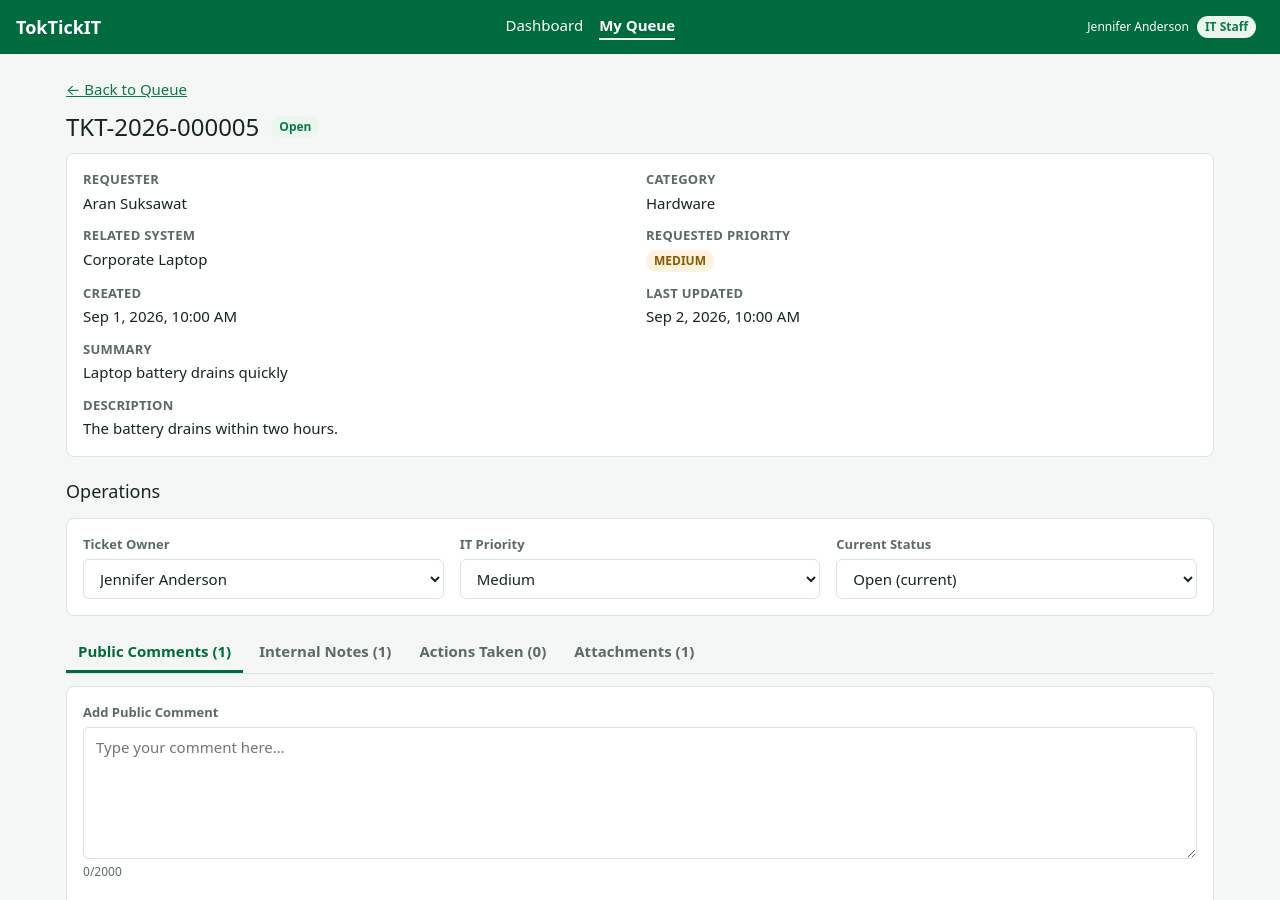
Test: IT Staff Ticket Detail screen › lists attachments read-only with a Download action and no add/remove controls
This screenshot has width=1280, height=900.
Click the tab "Attachments (1)": point(634, 653) [562, 632, 706, 673]
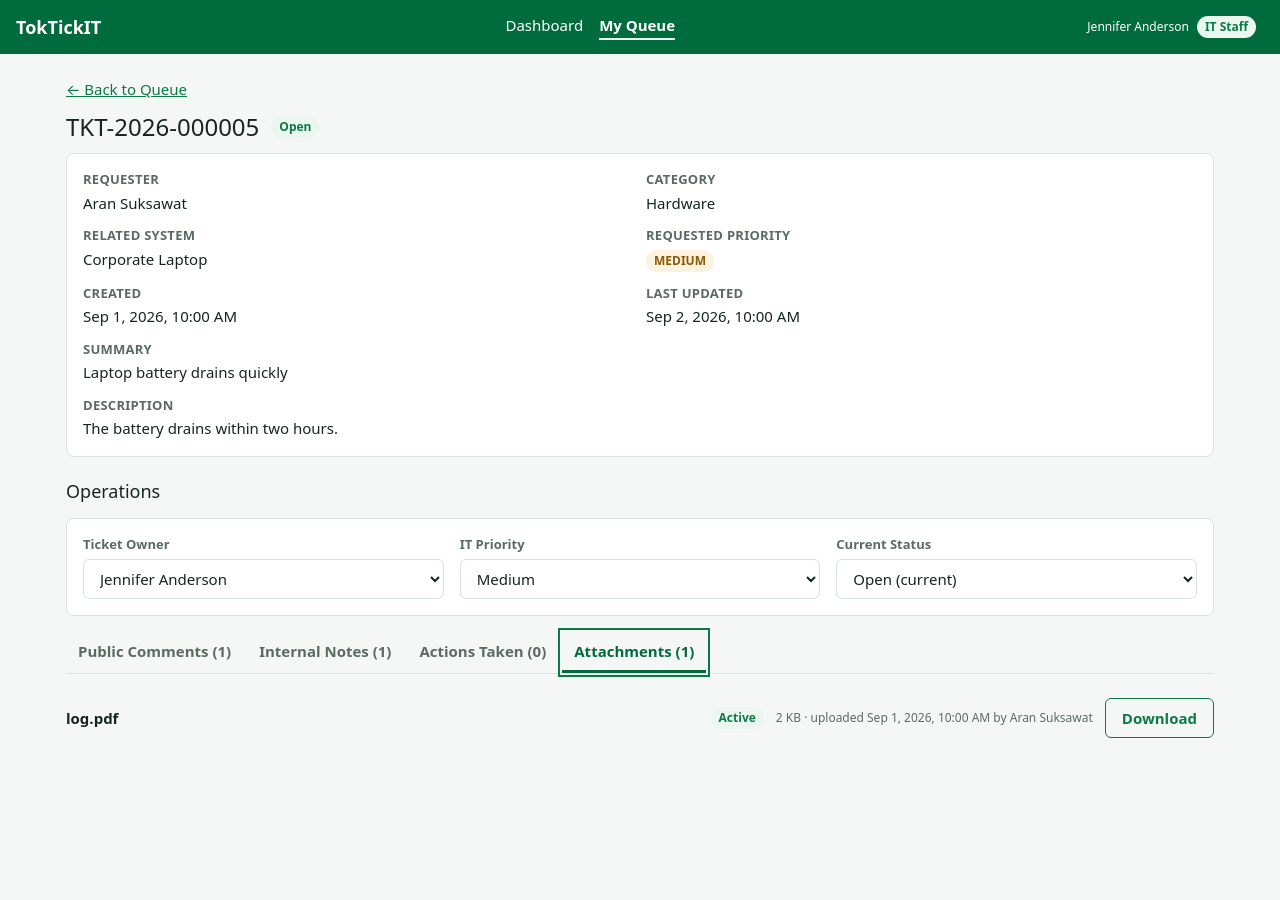
Result: the text "log.pdf" is shown at [66, 708, 118, 728]
Result: the button "Download" is shown at [1105, 698, 1214, 738]
